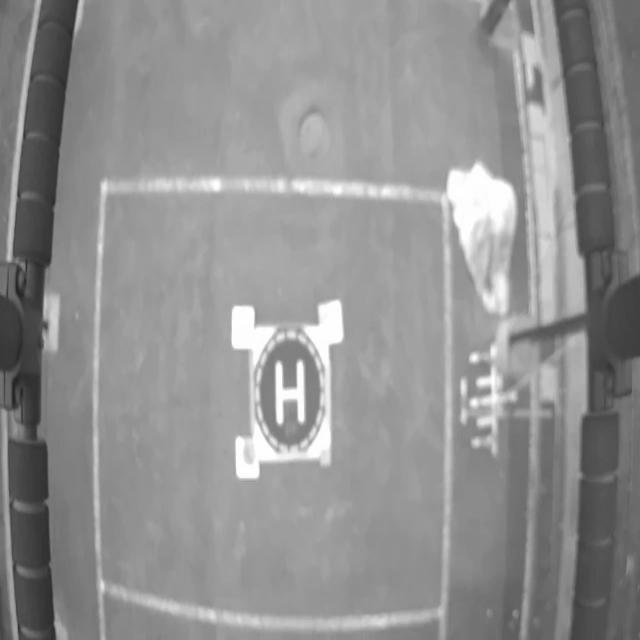Helipad: (275, 359, 305, 426)
